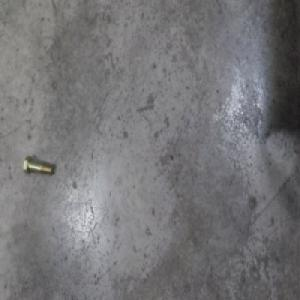Bolt: (24, 161, 54, 185)
